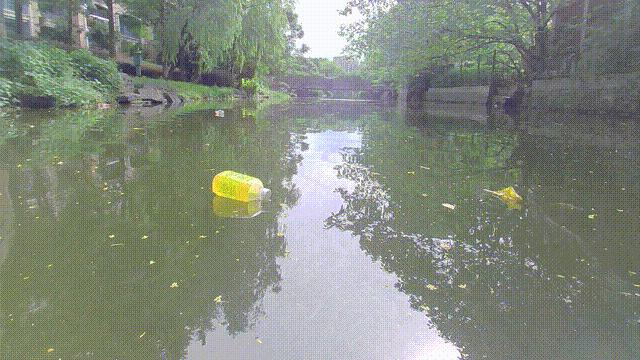Plastic: (208, 166, 278, 204), (130, 125, 146, 134), (95, 101, 110, 110), (216, 109, 226, 118)
